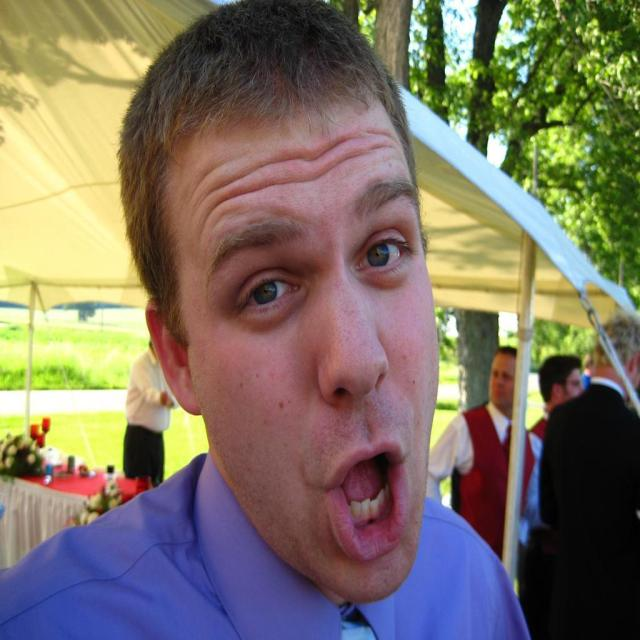no-glass: (236, 234, 402, 320)
